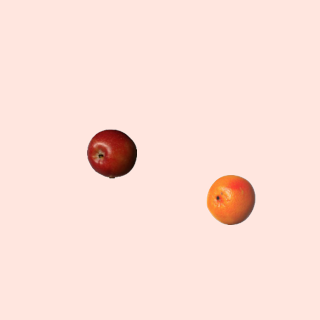Apple Braeburn: (86, 128, 136, 178)
Grapefruit Pink: (205, 174, 255, 224)
